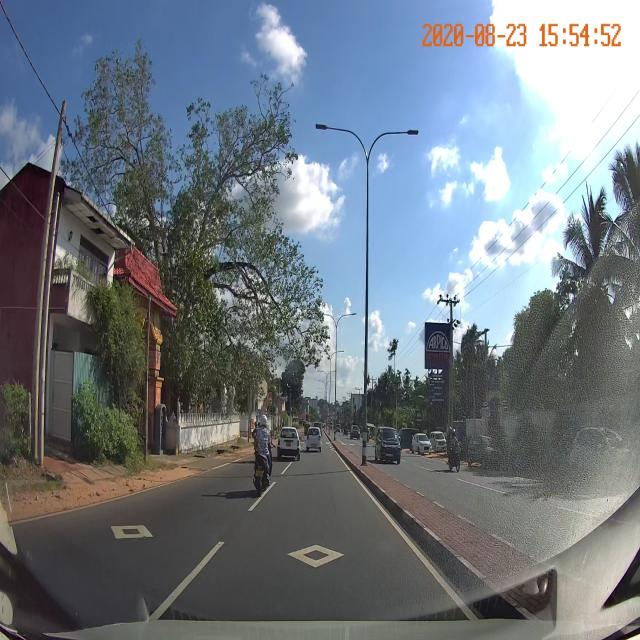diamond: (189, 531, 448, 583)
